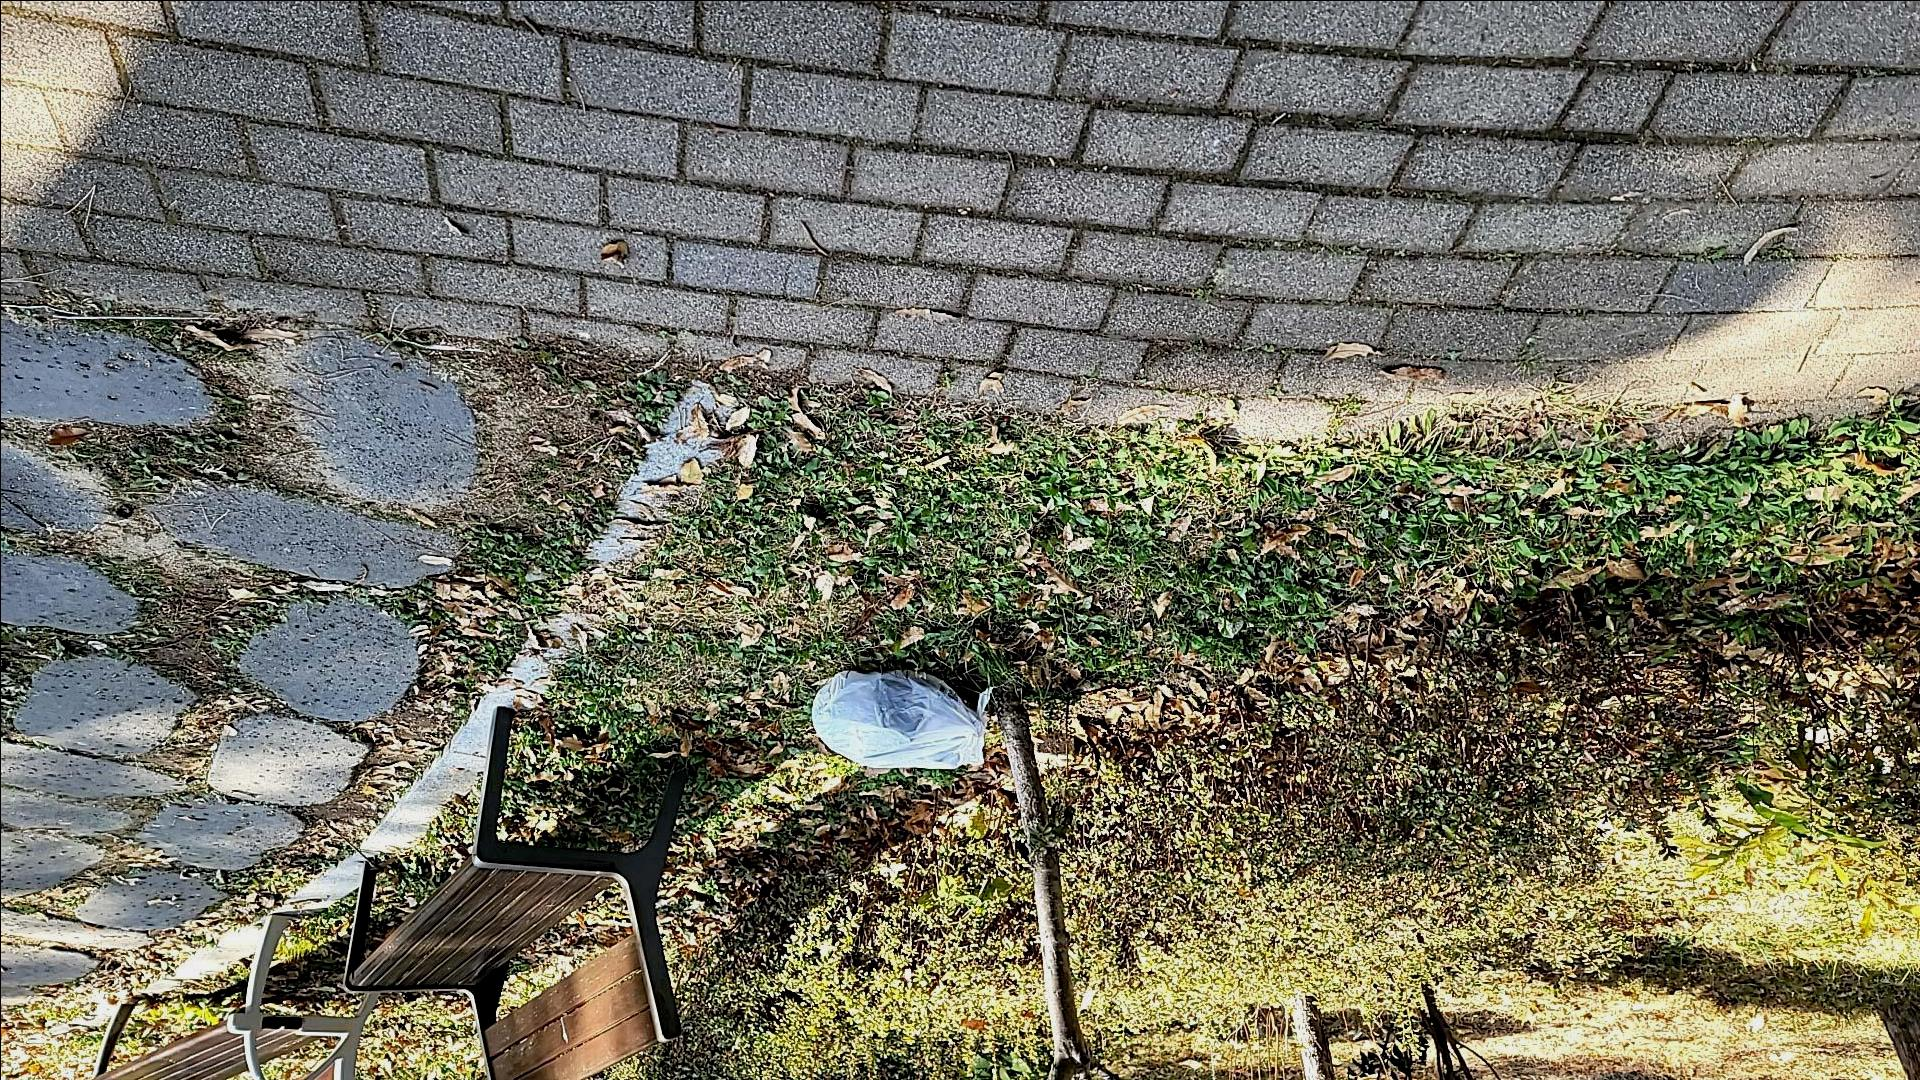white_bag: (806, 655, 1004, 775)
